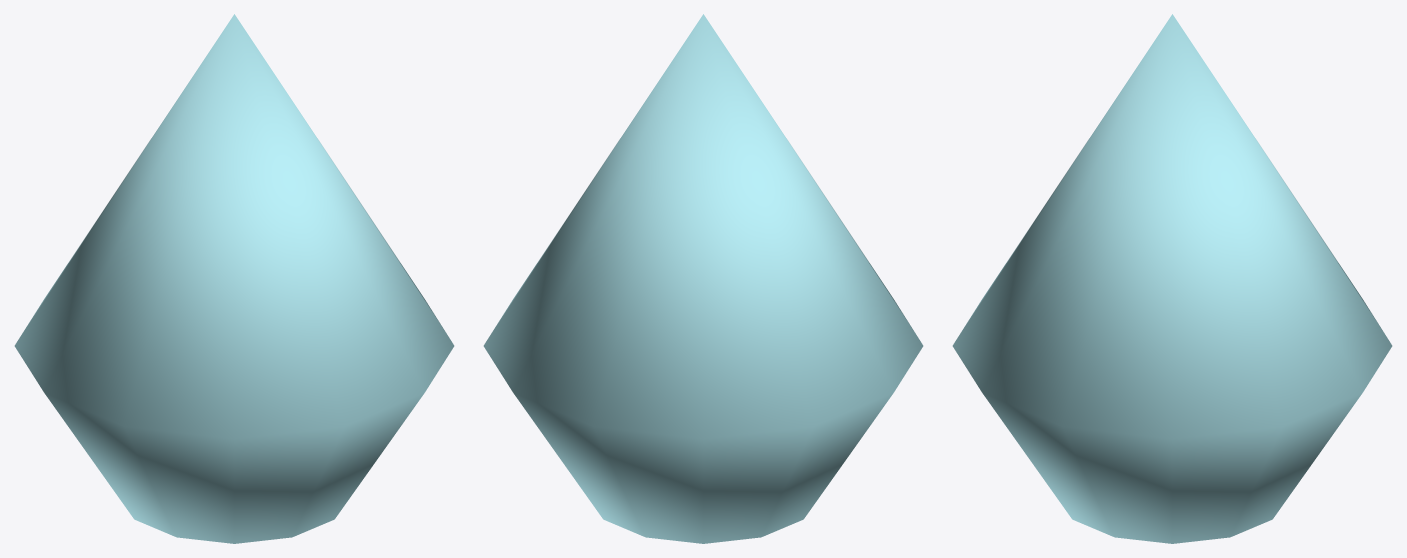
Rendered from PotionBottleCork4.fbx.
3 renders of one model, left to right at view 1: azimuth 30°, elevation 25°; view 2: azimuth 150°, elevation 25°; view 3: azimuth 270°, elevation 25°, orthographic.
Visible parts, largest first — view 1: PotionBottleCork4; view 2: PotionBottleCork4; view 3: PotionBottleCork4.
Boxes of the visible parts, box(x1,y1,x2,y2) form: PotionBottleCork4: box(14, 14, 454, 543); PotionBottleCork4: box(483, 14, 923, 543); PotionBottleCork4: box(952, 14, 1392, 543).
Size of the model in its own units: 3.58 by 4.32 by 3.58.
